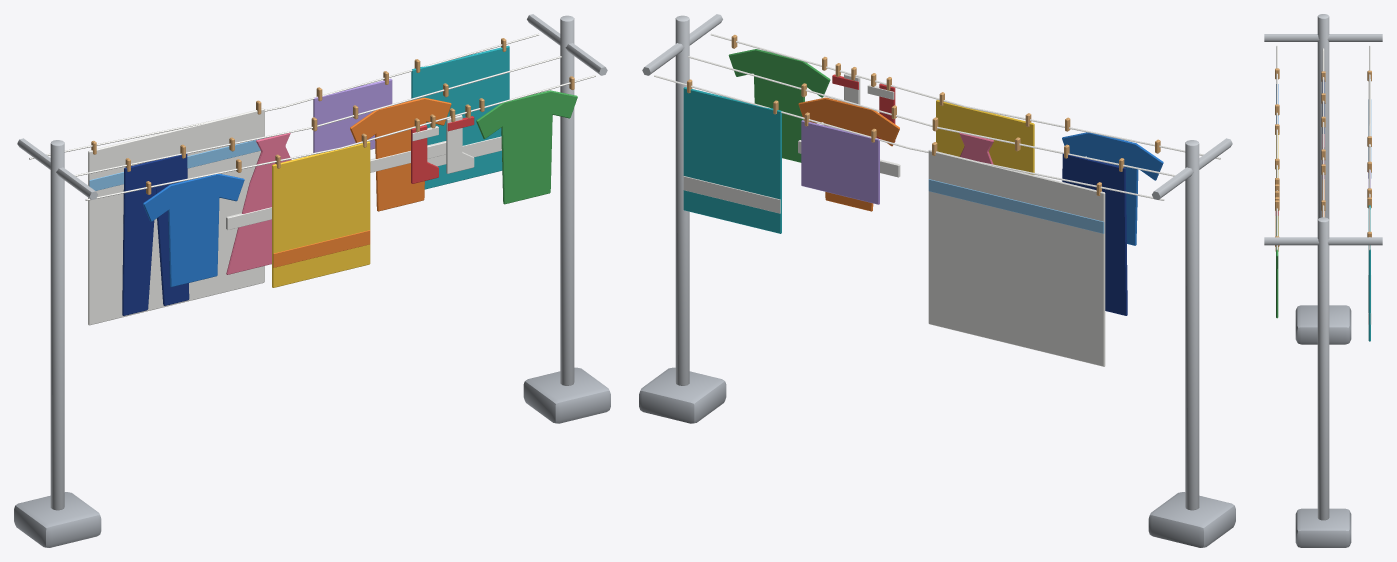
The model's file is varal_roupas.glb.
The picture shows the model from 3 angles, left to right: view 1: azimuth 30°, elevation 25°; view 2: azimuth 150°, elevation 25°; view 3: azimuth 270°, elevation 25°; orthographic projection. The views are drawn at different scales.
Parts seen in each view (by area): view 1: roupas_1, roupas_3, varal_roupas, roupas_2; view 2: roupas_3, varal_roupas, roupas_1, roupas_2; view 3: varal_roupas, roupas_3, roupas_1, roupas_2.
Boxes of the visible parts, x1=… form: roupas_1: x1=143, y1=76, x2=577, y2=287; roupas_3: x1=88, y1=38, x2=509, y2=325; varal_roupas: x1=14, y1=14, x2=610, y2=547; roupas_2: x1=122, y1=83, x2=451, y2=315; roupas_3: x1=683, y1=79, x2=1105, y2=366; varal_roupas: x1=639, y1=14, x2=1235, y2=547; roupas_1: x1=728, y1=34, x2=1163, y2=245; roupas_2: x1=798, y1=83, x2=1127, y2=315; varal_roupas: x1=1264, y1=14, x2=1382, y2=547; roupas_3: x1=1367, y1=70, x2=1371, y2=341; roupas_1: x1=1275, y1=68, x2=1279, y2=318; roupas_2: x1=1321, y1=71, x2=1325, y2=217.
Bounding box in the file's own units: 2.9 × 1.9 × 0.64.
Materials: 1 (1 with a texture image).
